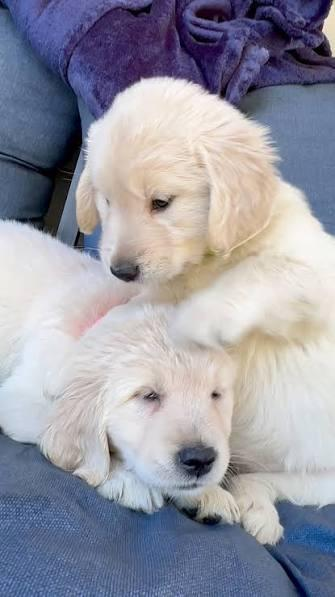puppy-dog: (77, 79, 335, 508), (0, 218, 285, 545)
